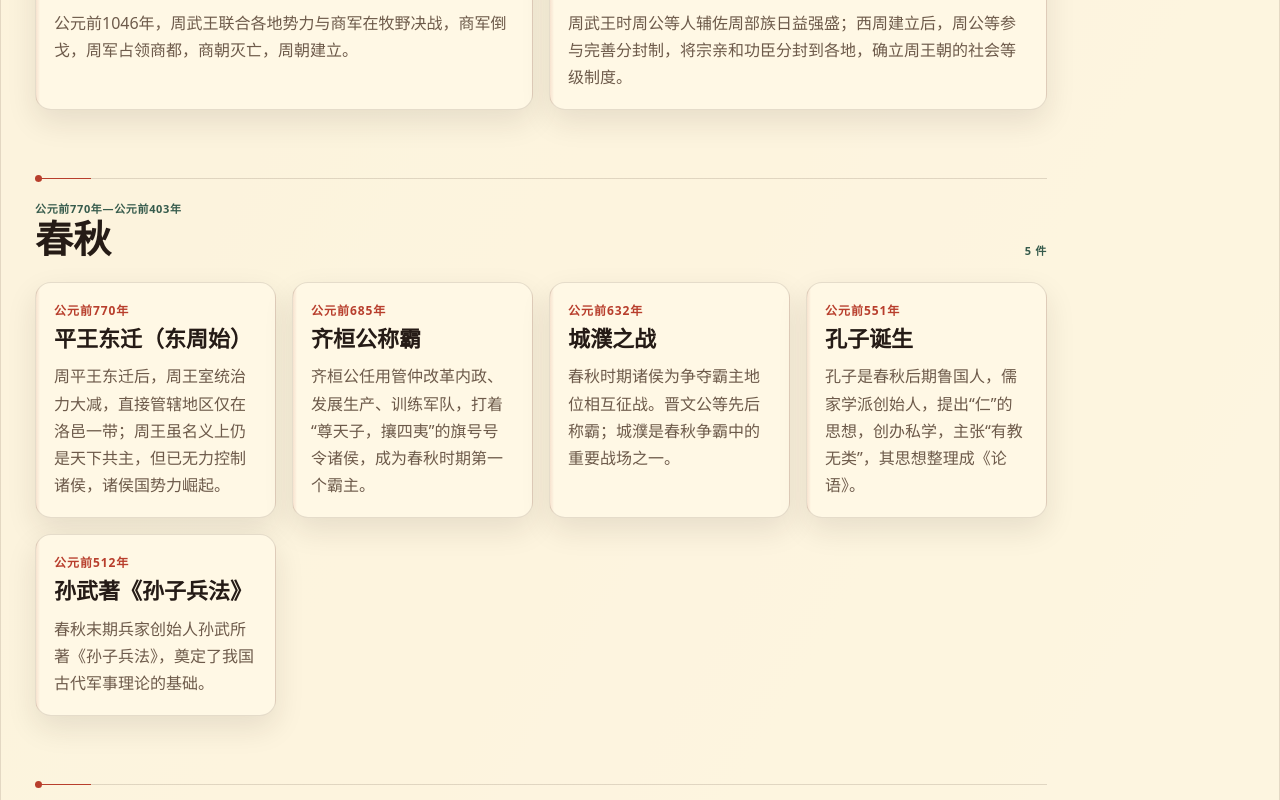
Test: EventListPage › 列表卡片不展示课程，详情弹层展示关联课程
The image size is (1280, 800).
(page scrolled)
What coordinates should you click on to do the following:
click the link with test id "event-card-china-event-0012"
I would click on:
 (926, 400)
Its box is [806,282,1047,518].
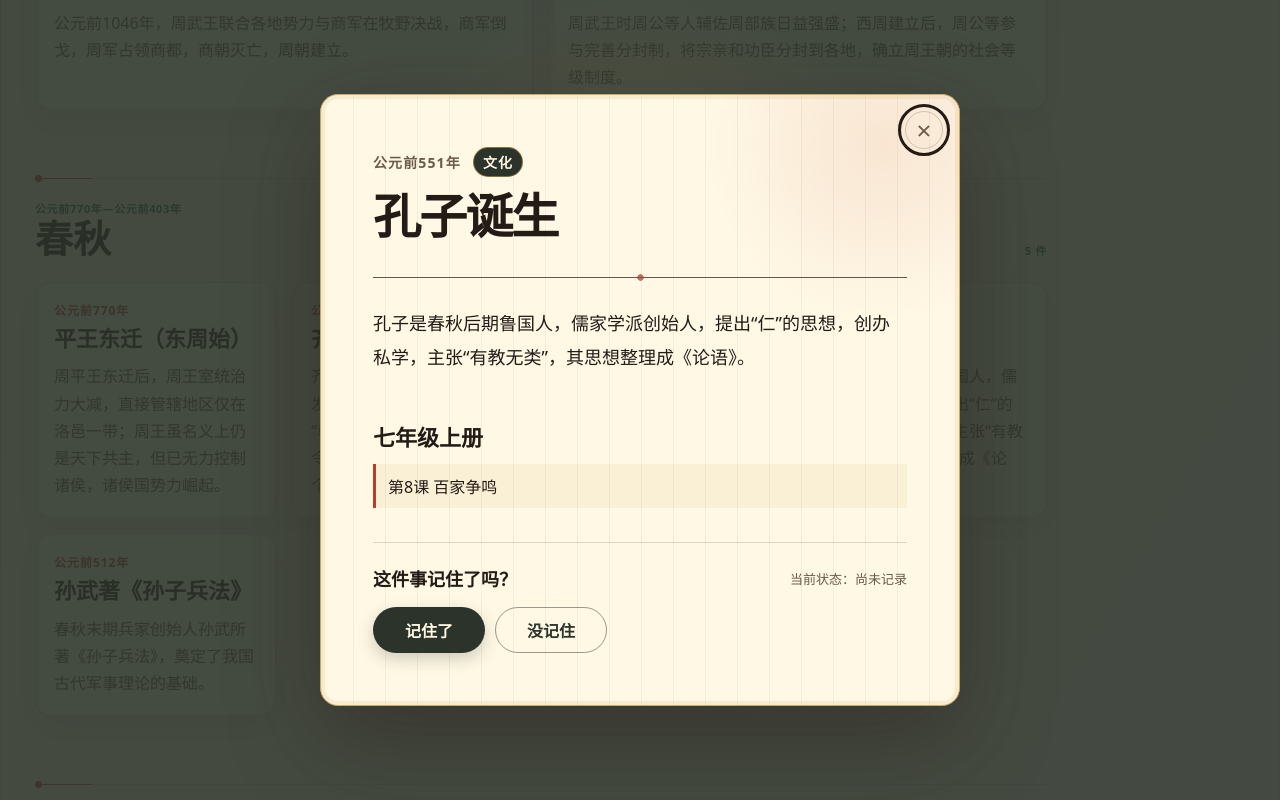
Expected: the element with test id "event-lesson-memberships" shows "七年级上册", [373,426,483,451]
Expected: the link with test id "event-lesson-g7u-lesson-08" reads "第8课 百家争鸣", [373,464,907,508]
